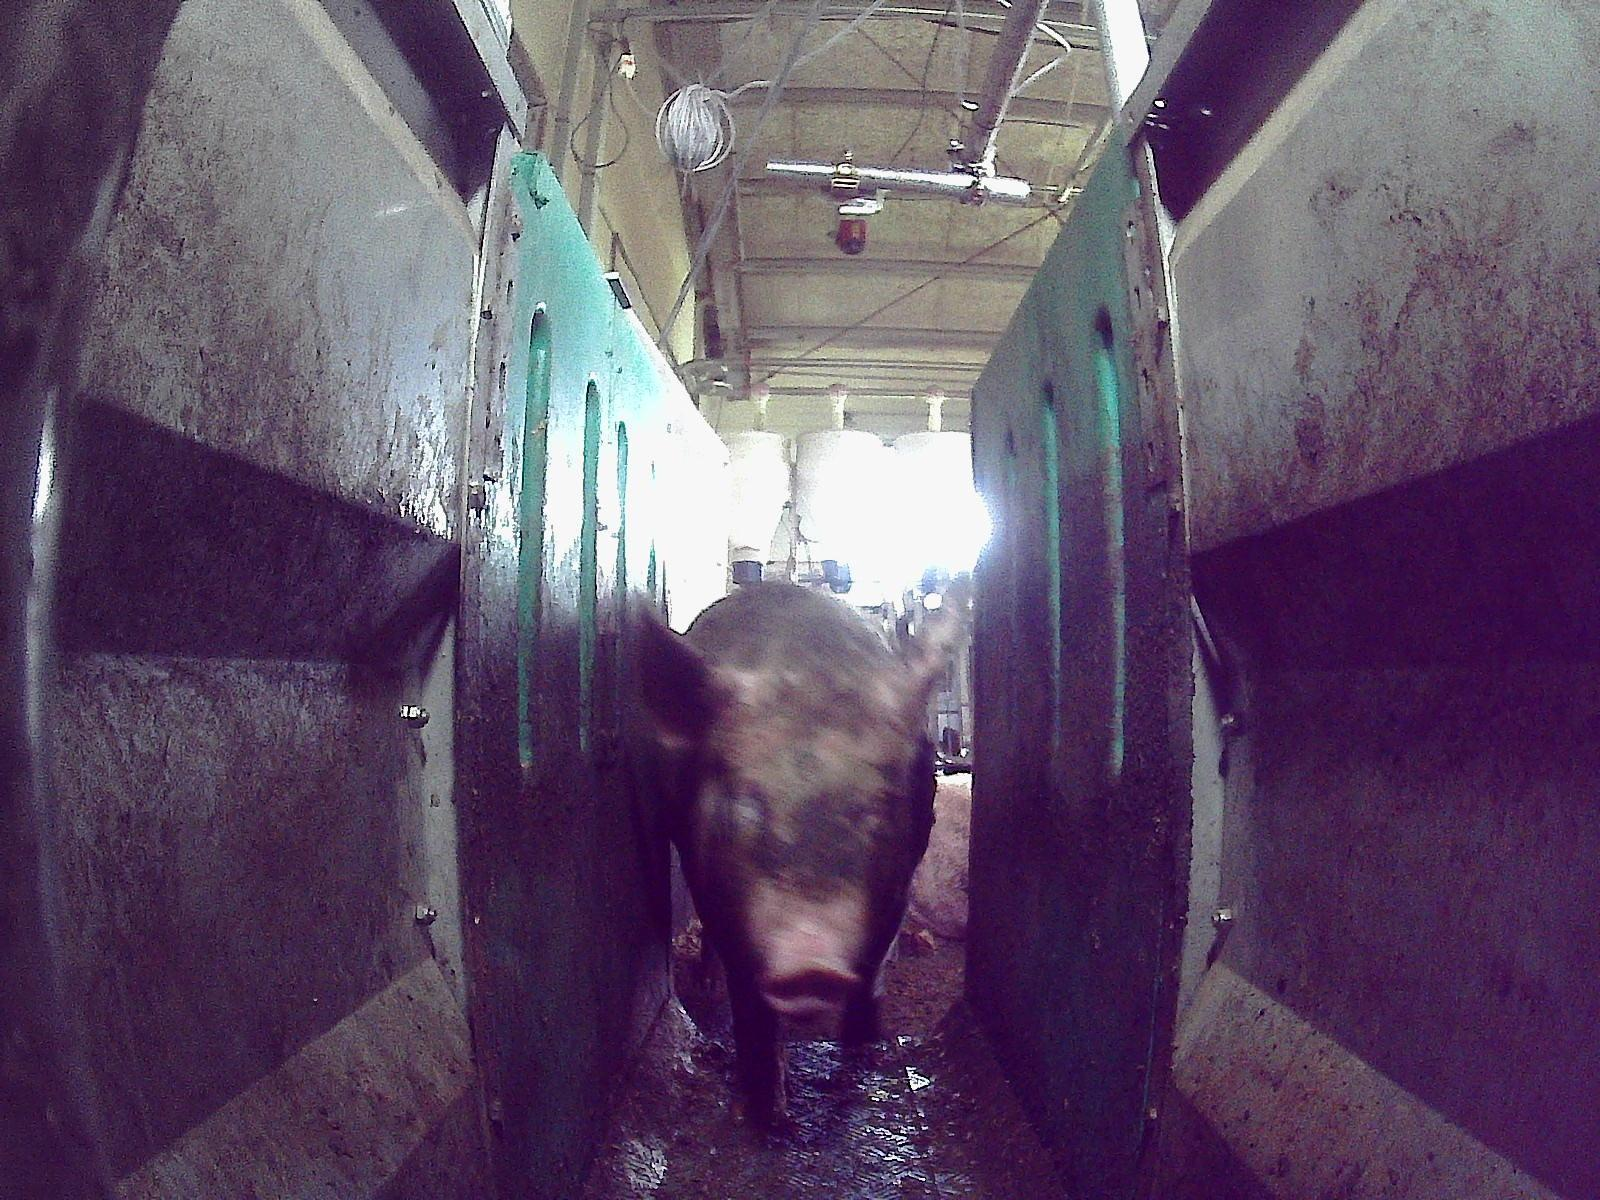Face: (705, 678, 913, 1017)
